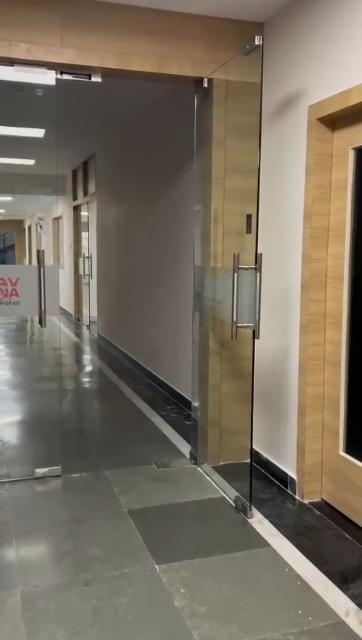door: (69, 162, 99, 332)
floor: (0, 338, 362, 640)
wall: (101, 136, 193, 360), (266, 0, 302, 464), (304, 7, 358, 92)
